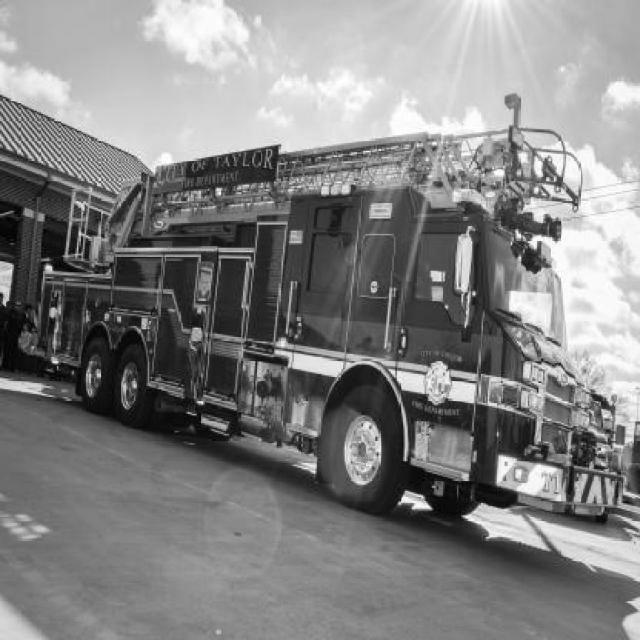Fire Truck: (39, 94, 624, 522)
